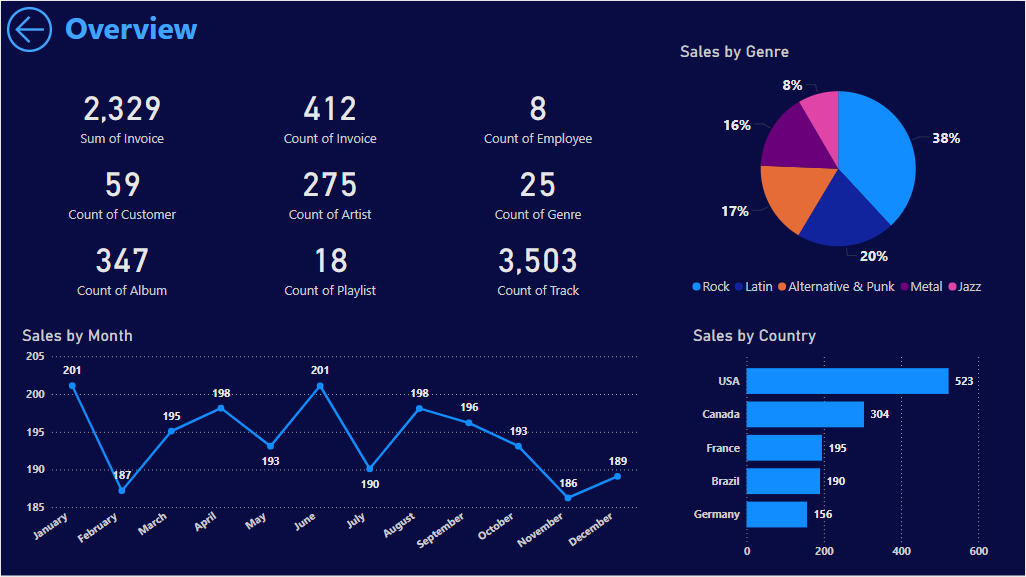

Layout of this report page (visuals, bound fields, positions):
{"tool":"powerbi","page":{"name":"Overview","canvas":[1280,720],"ordinal":1},"visuals":[{"type":"card","fields":{"Values":["Sum(Invoice.Total)"]},"box":[21.2,92.5,260,95],"z":0},{"type":"card","fields":{"Values":["CountNonNull(Customer.CustomerId)"]},"box":[21.2,187.5,260,95],"z":1000},{"type":"pieChart","title":"Sales by Genre","fields":{"Category":["Genre.Name"],"Y":["Measures (3).SumTotal"]},"box":[844.2,51.3,405.6,325.8],"z":2000},{"type":"lineChart","title":"Sales by Month","fields":{"Y":["Measures (3).SumTotal"],"Category":["Invoice.InvoiceDate.Variation.Date Hierarchy.Month"]},"box":[21.6,406.7,779.2,299.6],"z":3000},{"type":"barChart","title":"Sales by Country","fields":{"Y":["Measures (3).SumTotal"],"Category":["Customer.Country"]},"box":[860.1,406.7,389.6,299.6],"z":4000},{"type":"card","fields":{"Values":["CountNonNull(Employee.EmployeeId)"]},"box":[541.2,92.5,260,95],"z":5000},{"type":"card","fields":{"Values":["CountNonNull(Invoice.InvoiceId)"]},"box":[281.2,92.5,260,95],"z":6000},{"type":"card","fields":{"Values":["CountNonNull(Album.AlbumId)"]},"box":[21.2,282.5,260,95],"z":7000},{"type":"card","fields":{"Values":["CountNonNull(Artist.ArtistId)"]},"box":[281.2,187.5,260,95],"z":8000},{"type":"card","fields":{"Values":["CountNonNull(Genre.GenreId)"]},"box":[541.2,187.5,260,95],"z":9000},{"type":"card","fields":{"Values":["CountNonNull(Track.TrackId)"]},"box":[541.2,282.5,260,95],"z":10000},{"type":"card","fields":{"Values":["CountNonNull(Playlist.PlaylistId)"]},"box":[281.2,282.5,260,95],"z":11000},{"type":"actionButton","box":[0,0,71.2,71.2],"z":12000},{"type":"textbox","box":[75,2.5,197.5,68.8],"z":13000}]}

Visuals, with their boxes in screenshot pixels (x1, y1, x2, y2), scaled from the page's 1280x720 canvas onto the 1026x577 screenshot:
card - Sum(Invoice.Total): left=17, top=74, right=225, bottom=150
card - CountNonNull(Customer.CustomerId): left=17, top=150, right=225, bottom=226
"Sales by Genre" pieChart: left=677, top=41, right=1002, bottom=302
"Sales by Month" lineChart: left=17, top=326, right=642, bottom=566
"Sales by Country" barChart: left=689, top=326, right=1002, bottom=566
card - CountNonNull(Employee.EmployeeId): left=434, top=74, right=642, bottom=150
card - CountNonNull(Invoice.InvoiceId): left=225, top=74, right=434, bottom=150
card - CountNonNull(Album.AlbumId): left=17, top=226, right=225, bottom=303
card - CountNonNull(Artist.ArtistId): left=225, top=150, right=434, bottom=226
card - CountNonNull(Genre.GenreId): left=434, top=150, right=642, bottom=226
card - CountNonNull(Track.TrackId): left=434, top=226, right=642, bottom=303
card - CountNonNull(Playlist.PlaylistId): left=225, top=226, right=434, bottom=303
actionButton: left=0, top=0, right=57, bottom=57
textbox: left=60, top=2, right=218, bottom=57
